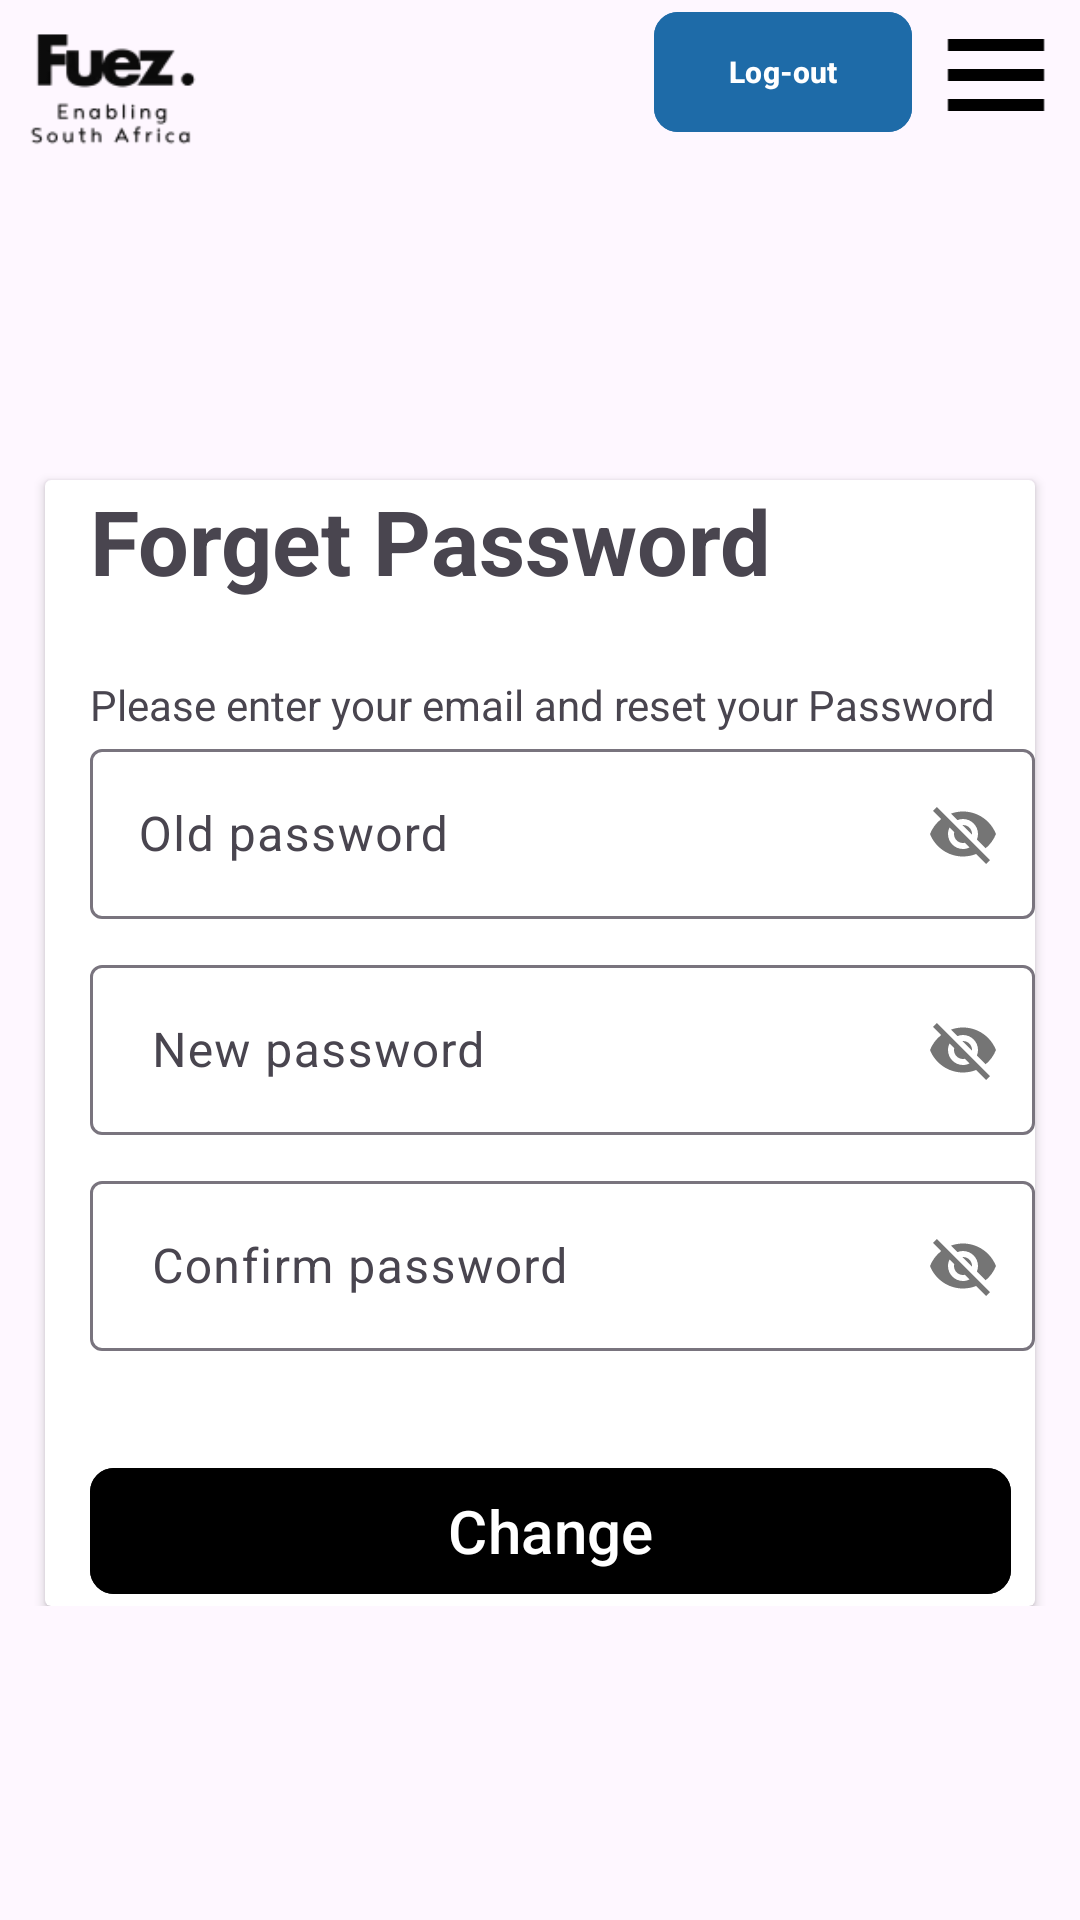

Icon click points for this 1080 x 1920 phone screenshot, format [x,y]:
dehaze: [996,75]
